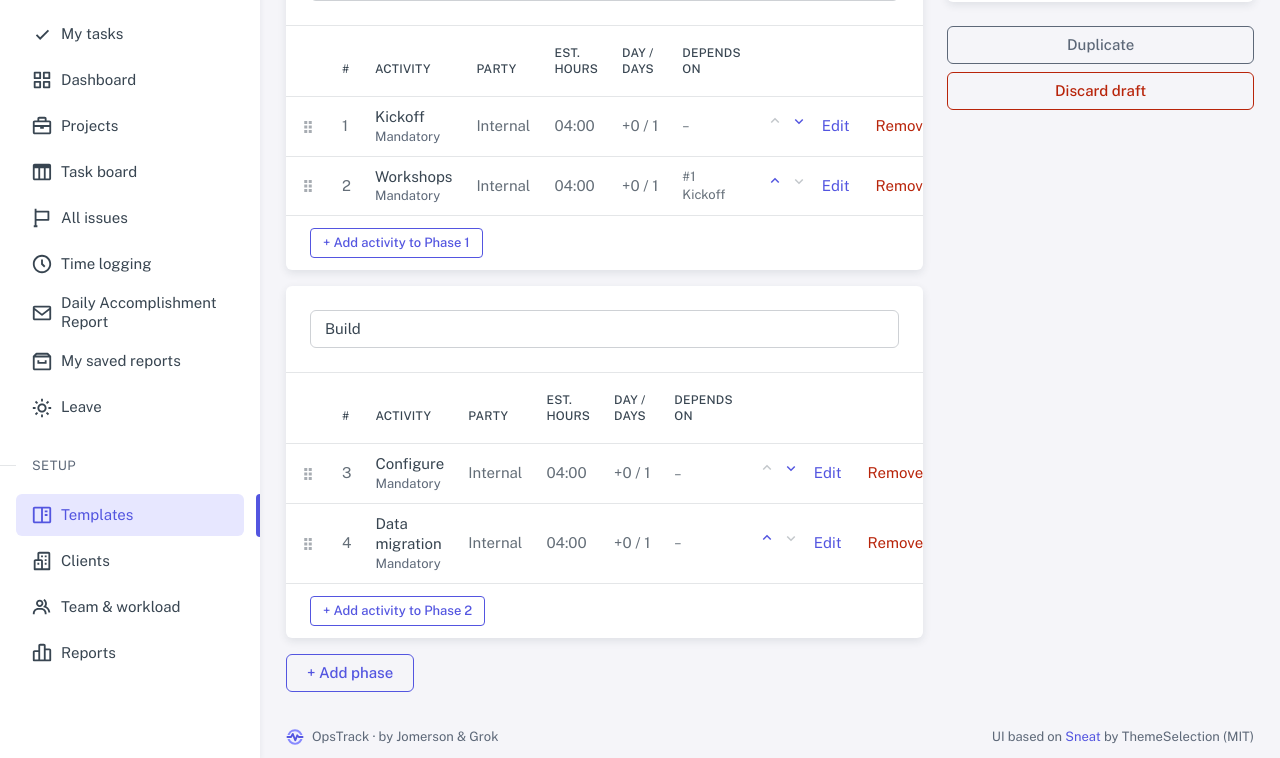
Template editor: "+ Add activity to Phase N" (FR-TPL-12, AC-37.1) › editing an existing activity still offers the phase picker ("move to phase…")
The image size is (1280, 758).
(page scrolled)
What coordinates should you click on to do the following:
click the button with aria-label "Edit Configure"
I would click on:
 (828, 474)
Its box is [801, 457, 855, 490].
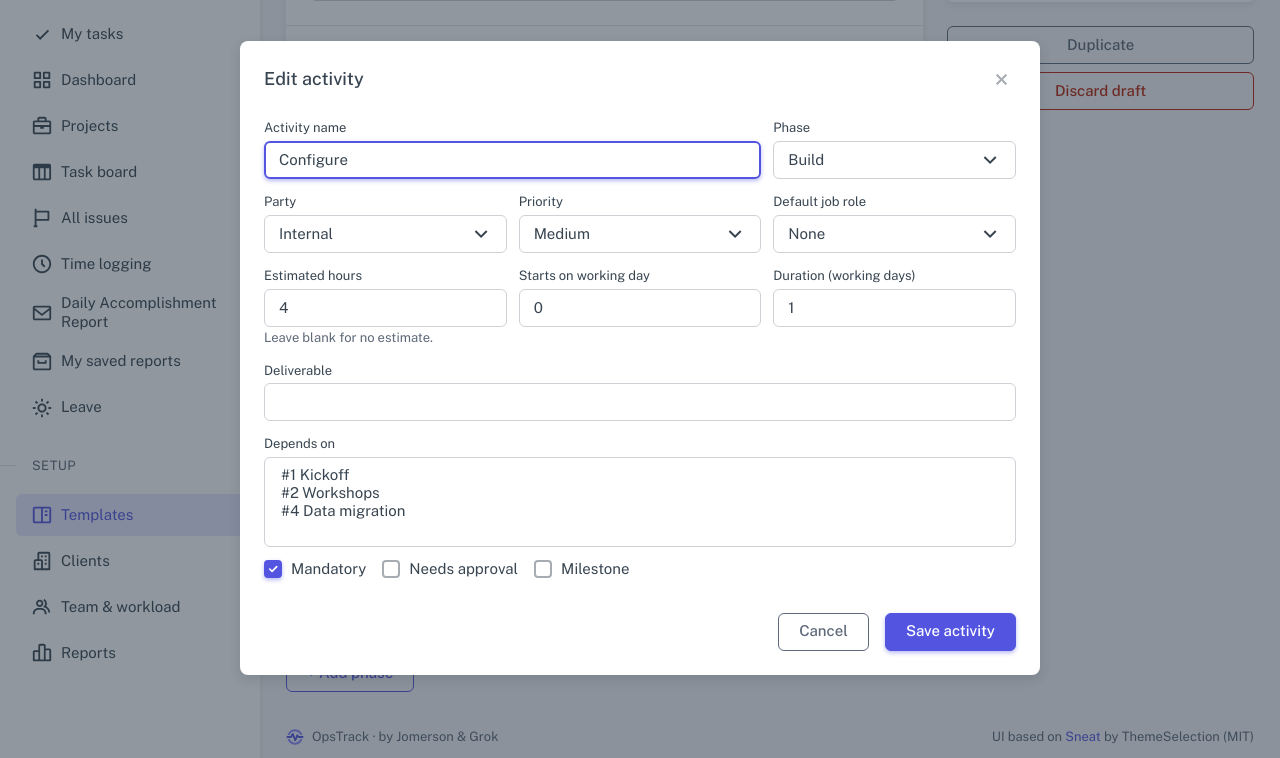
Check: the dropdown labelled "Phase" shows "Build", box [773, 141, 1016, 179]
